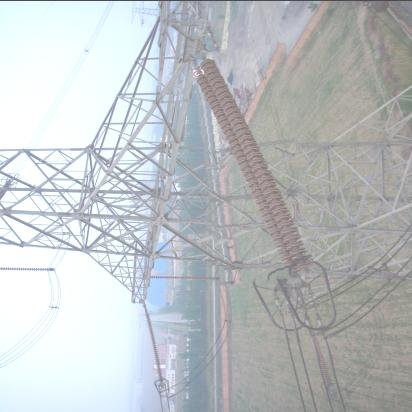insulator: (199, 45, 309, 284)
